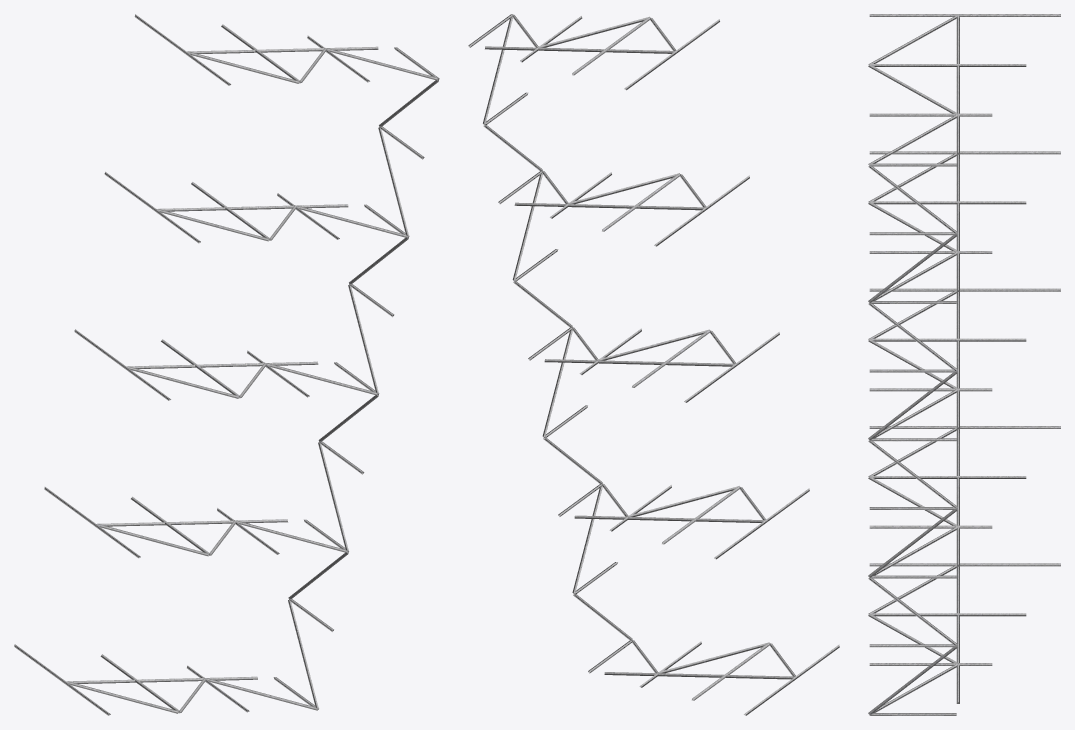
File: _0TRIBUENE_02_025_SUB2_Scene.191.obj
The picture shows the model from 3 angles, left to right: view 1: azimuth 30°, elevation 25°; view 2: azimuth 150°, elevation 25°; view 3: azimuth 270°, elevation 25°; orthographic projection. The views are drawn at different scales.
Visible parts, largest first — view 1: _0TRIBUENE_02_025_SUB2_Scene.191; view 2: _0TRIBUENE_02_025_SUB2_Scene.191; view 3: _0TRIBUENE_02_025_SUB2_Scene.191.
Part boxes in pixels (x1,y1,x2,y2): _0TRIBUENE_02_025_SUB2_Scene.191: (14, 14, 439, 715); _0TRIBUENE_02_025_SUB2_Scene.191: (468, 14, 839, 715); _0TRIBUENE_02_025_SUB2_Scene.191: (868, 14, 1060, 715).
Bounding box in the file's own units: 18.08 × 33.87 × 8.98.
